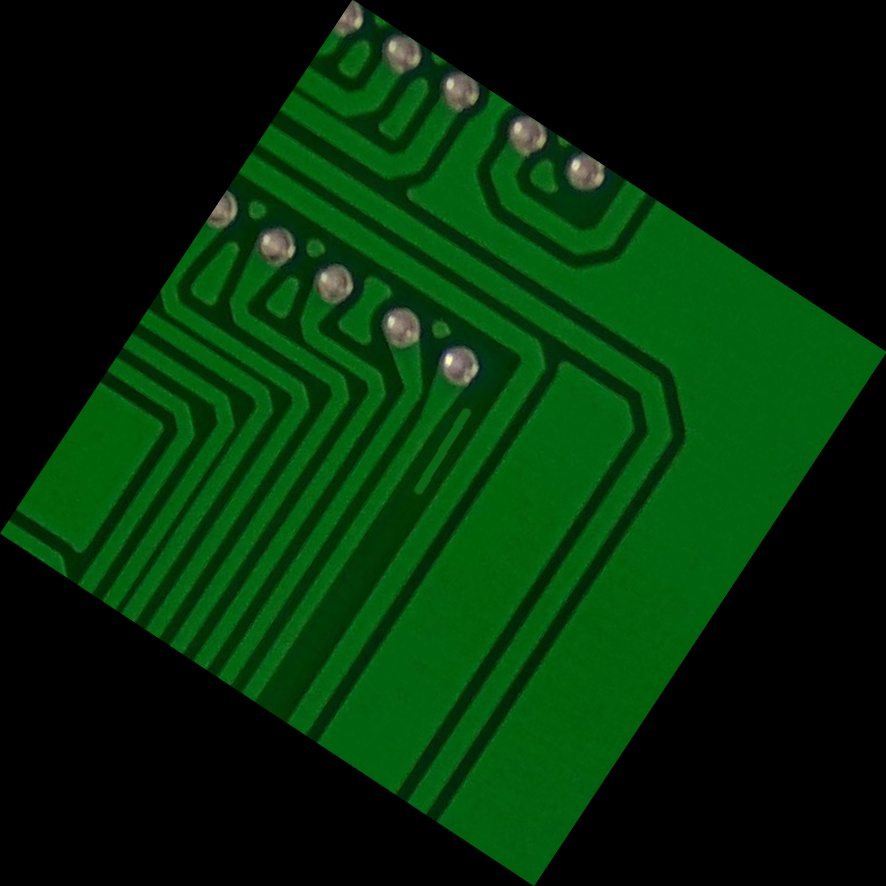spurious_copper: (388, 376, 498, 510)
